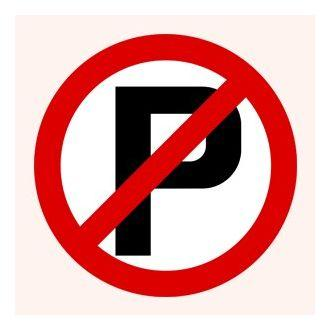No Parking: (44, 37, 289, 299)
